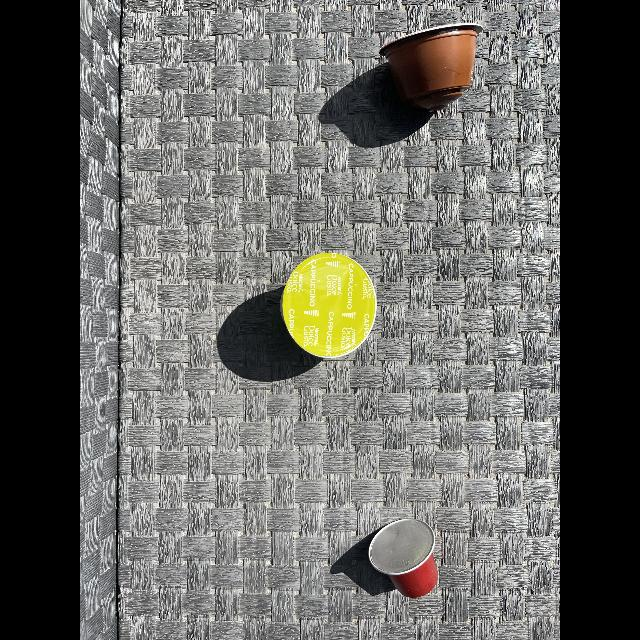intact_capsule: (278, 242, 380, 370), (369, 13, 489, 116), (359, 511, 447, 604)
